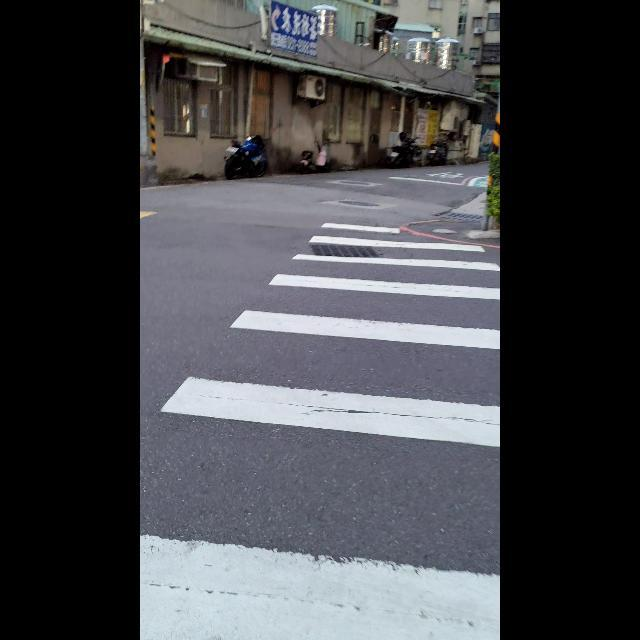sidewalk: (141, 232, 500, 638)
